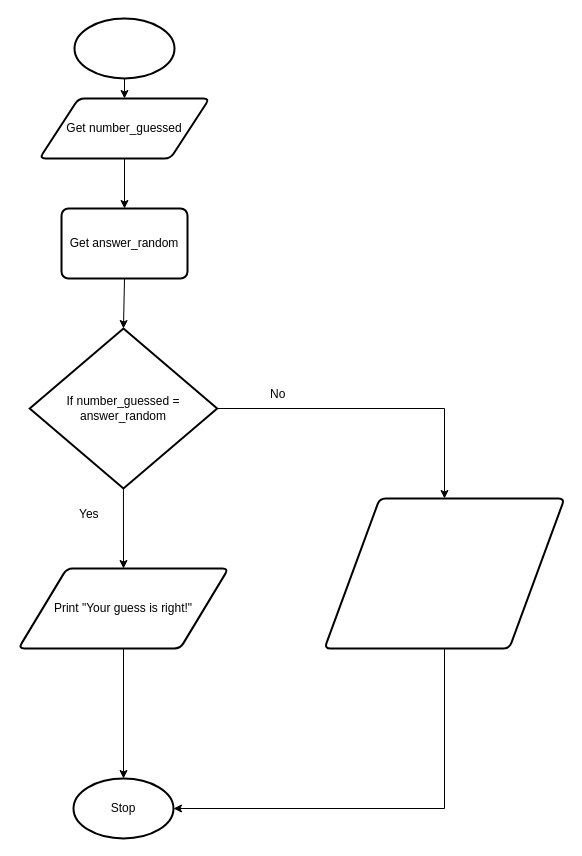
Some shapes in this 582 by 856 pixel diagram are drawn without their labels. The shapes that lost their labels are listed below. From the top down, each one's centre as x and y in pixels, then its label:
(x=124, y=48): Start
(x=444, y=573): Print "Your guess is wrong! The answer is answer_random."
